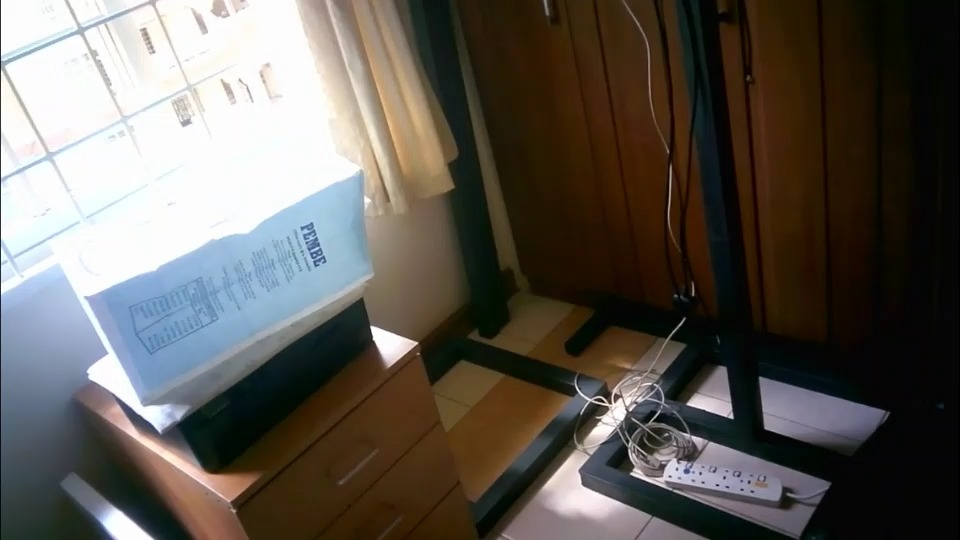wheat_flour_blue_label: (55, 151, 370, 403)
